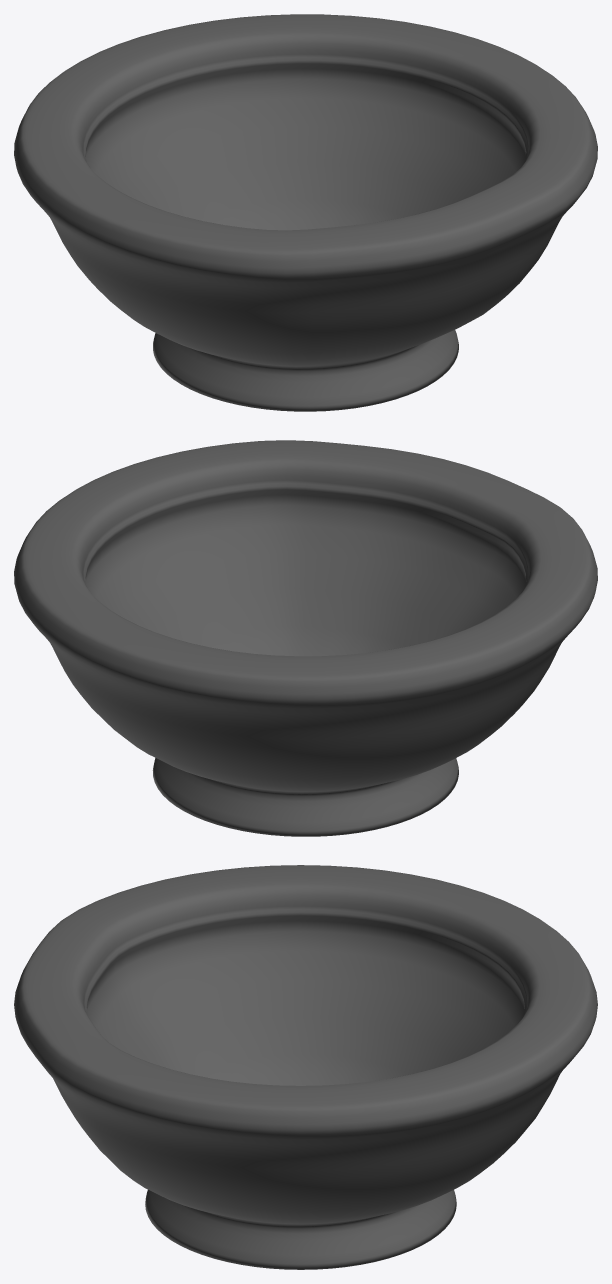
Rendered from Floating_Bowl.fbx.
The picture shows the model from 3 angles, top to bottom: view 1: azimuth 30°, elevation 25°; view 2: azimuth 150°, elevation 25°; view 3: azimuth 270°, elevation 25°; orthographic projection.
Visible parts, largest first — view 1: Cylinder.001; view 2: Cylinder.001; view 3: Cylinder.001.
Boxes of the visible parts, x1,y1,x2,y2 form: Cylinder.001: (14,14,597,411); Cylinder.001: (14,440,597,836); Cylinder.001: (14,865,597,1269).
Bounding box in the file's own units: 441 × 182 × 434.
